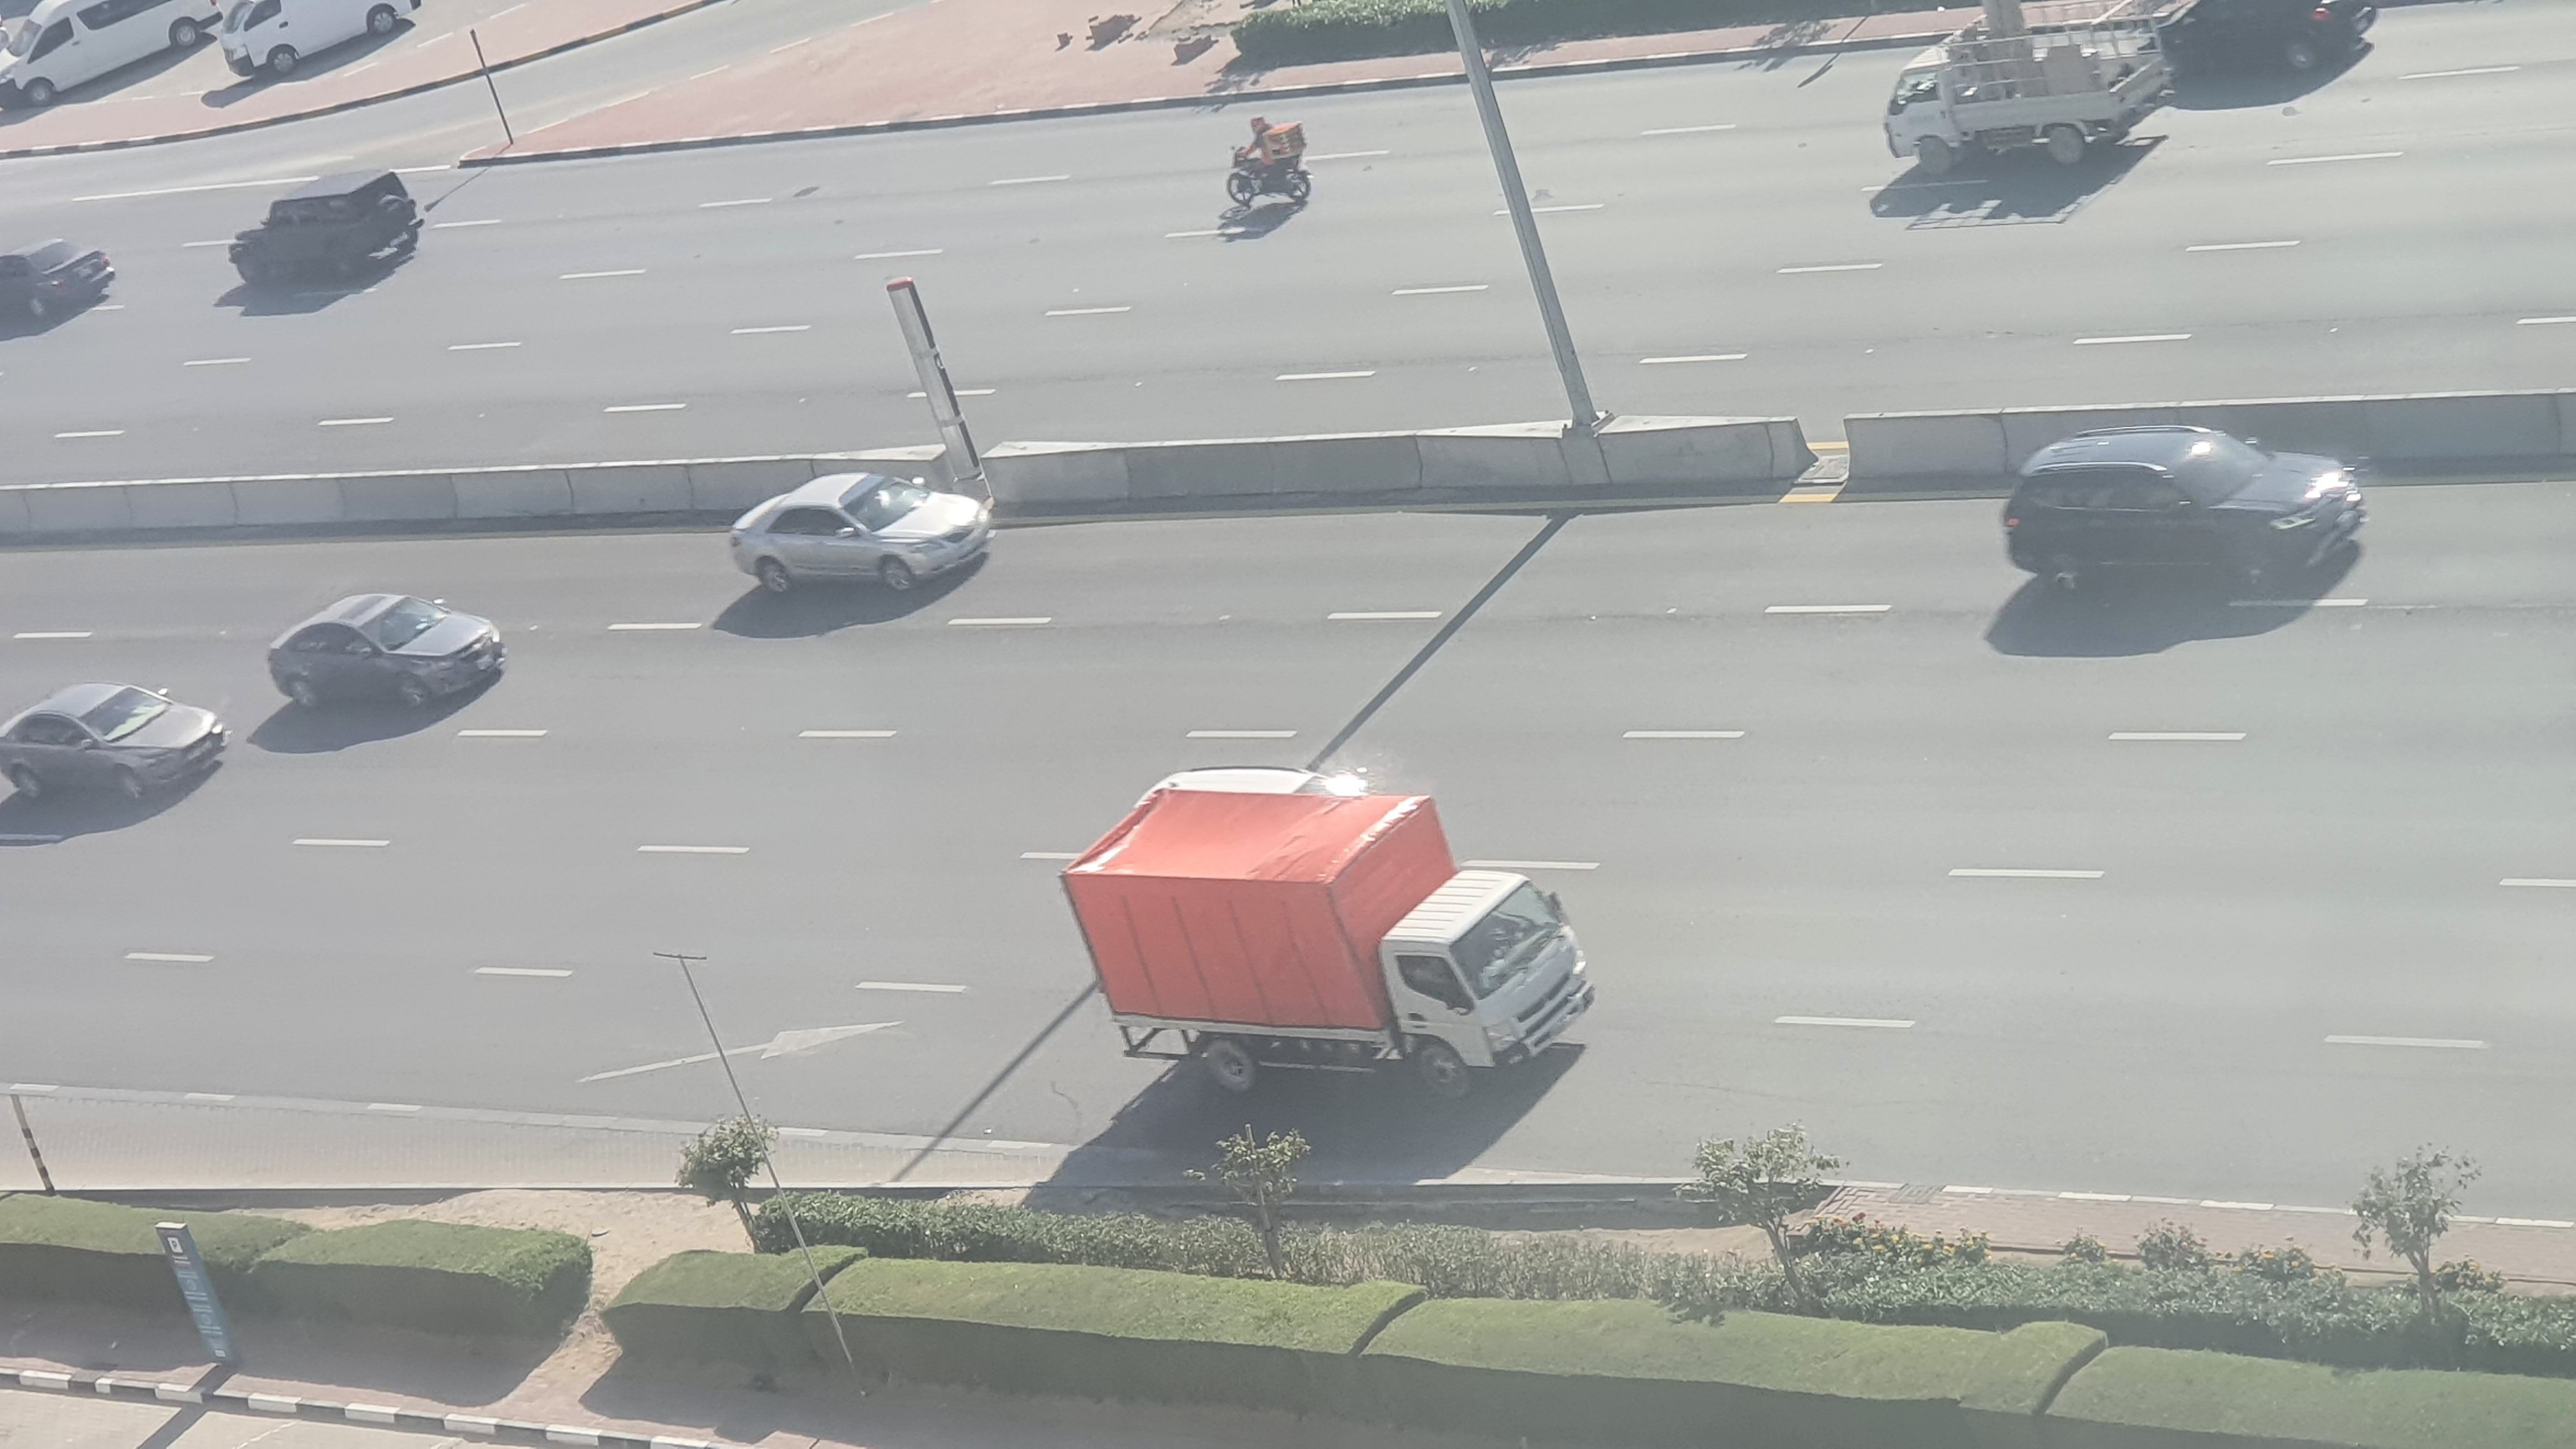NotSunroof: (1999, 416, 2365, 593), (720, 472, 1003, 602), (4, 688, 232, 812)
Sunroof: (257, 596, 515, 709)
